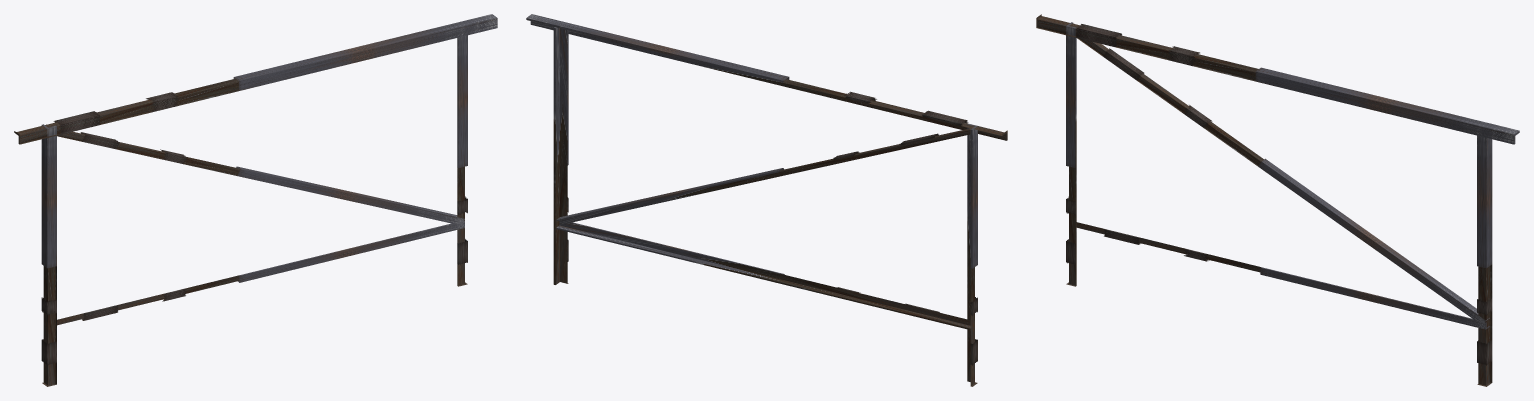
Rendered from SMD_Railing_A.fbx.
3 views of the same model, side by side, from view 1: azimuth 30°, elevation 25°; view 2: azimuth 150°, elevation 25°; view 3: azimuth 330°, elevation 25° (orthographic).
Parts seen in each view (by area): view 1: SMD_Railing_A; view 2: SMD_Railing_A; view 3: SMD_Railing_A.
Boxes of the visible parts, x1,y1,x2,y2 form: SMD_Railing_A: (14, 14, 497, 386); SMD_Railing_A: (526, 14, 1007, 386); SMD_Railing_A: (1036, 14, 1519, 386).
Size of the model in its own units: 250 by 130 by 6.
